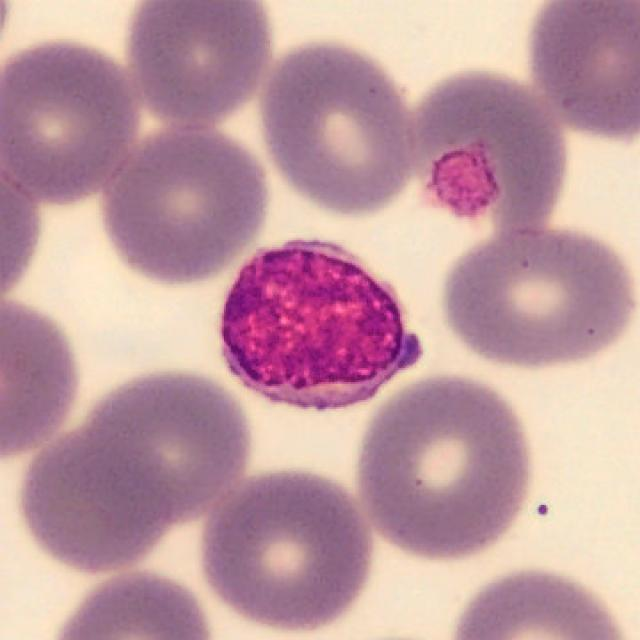Linfocito: (219, 242, 421, 411)
